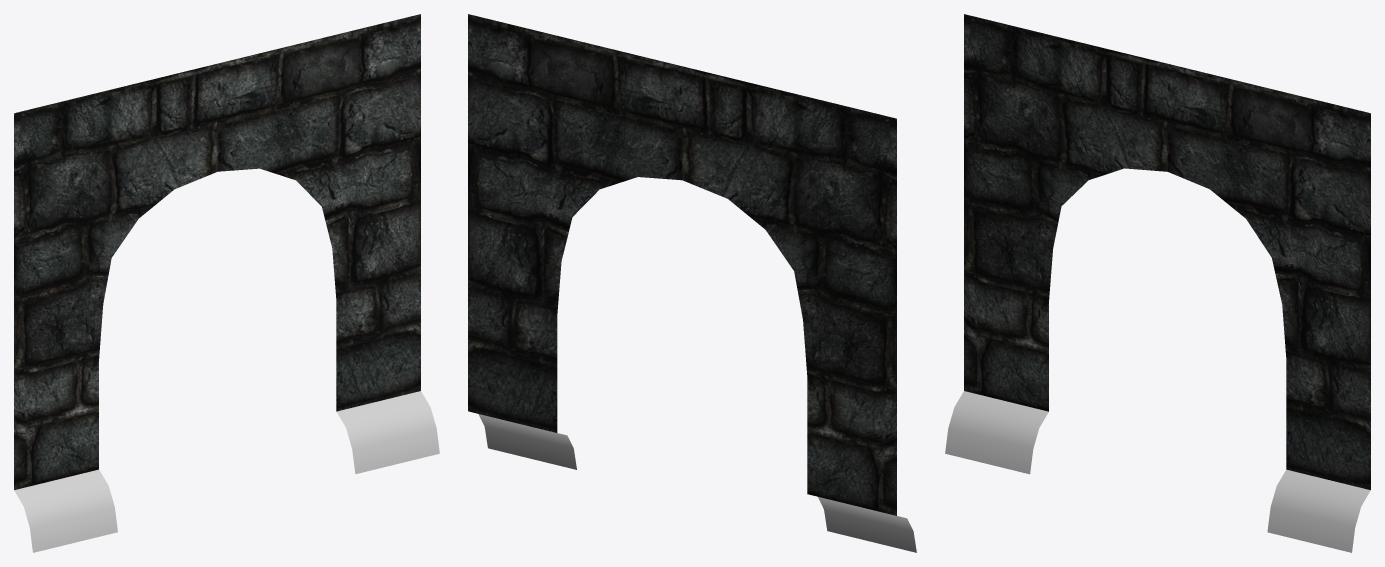
File: door_way_arched_square_brick.dae
3 views of the same model, side by side, from view 1: azimuth 30°, elevation 25°; view 2: azimuth 150°, elevation 25°; view 3: azimuth 330°, elevation 25° (orthographic). The views are drawn at different scales.
Visible parts, largest first — view 1: polySurface117, polySurface120; view 2: polySurface117, polySurface120; view 3: polySurface117, polySurface120.
Boxes of the visible parts, x1=… form: polySurface117: x1=14, y1=14, x2=420, y2=489; polySurface120: x1=14, y1=391, x2=439, y2=552; polySurface117: x1=468, y1=14, x2=896, y2=515; polySurface120: x1=478, y1=414, x2=916, y2=552; polySurface117: x1=964, y1=14, x2=1370, y2=489; polySurface120: x1=945, y1=391, x2=1370, y2=552.
Size of what is drawn, in the model's own units: 400 by 400 by 32.19.
